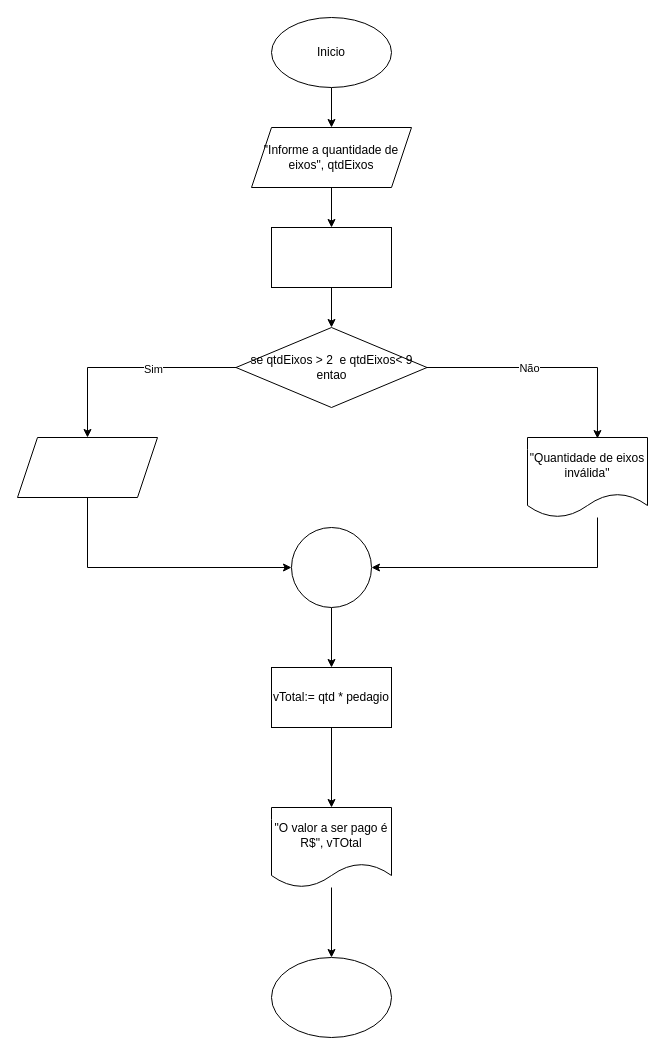
This 665x1055 diagram has some shape labels left out. The shapes that lost their labels are listed below. From the top down, each one's centre as x and y in pixels, then its label:
point 331,257: pedagio:= 6.35
point 87,467: "Informe a placa do veiculo", placa
point 331,997: Fim
